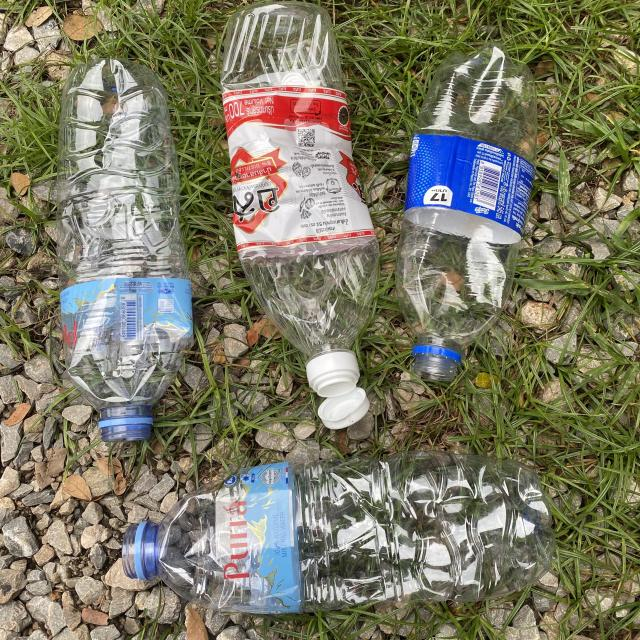plastik: (122, 451, 555, 614), (221, 2, 379, 429), (58, 59, 192, 441), (396, 42, 536, 381)
